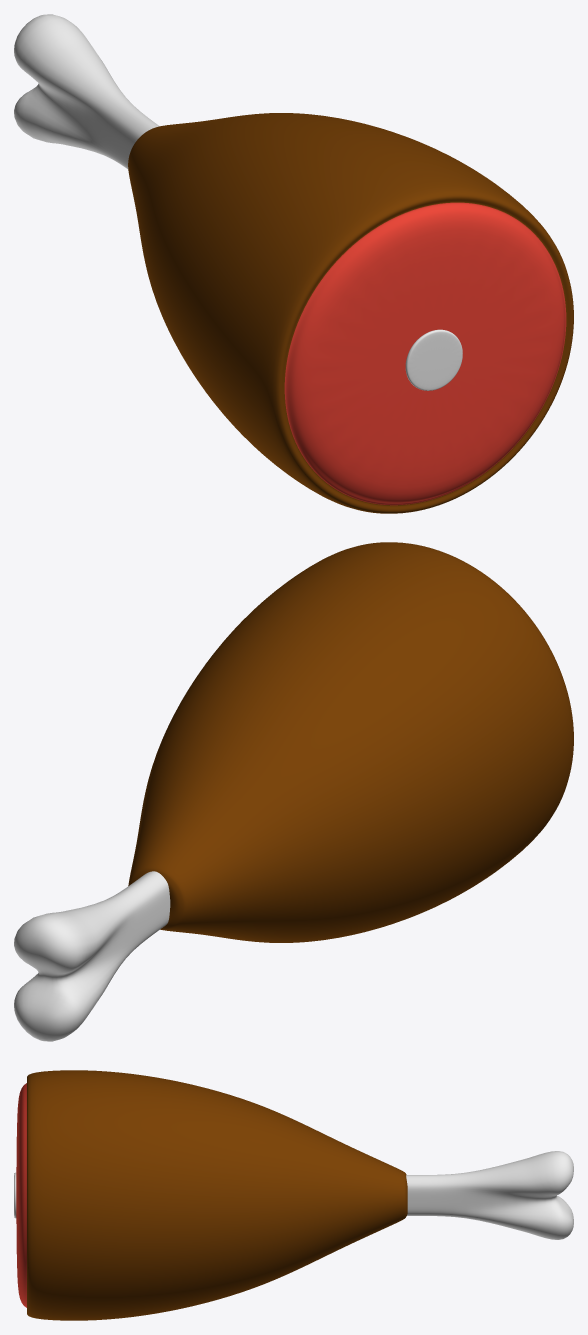
Rendered from Jamón.fbx.
3 renders of one model, top to bottom at view 1: azimuth 30°, elevation 25°; view 2: azimuth 150°, elevation 25°; view 3: azimuth 270°, elevation 25°, orthographic. The views are drawn at different scales.
Parts seen in each view (by area): view 1: Jamon; view 2: Jamon; view 3: Jamon.
Boxes of the visible parts, left/top/right/bottom form: Jamon: left=14, top=14, right=573, bottom=513; Jamon: left=14, top=542, right=573, bottom=1041; Jamon: left=14, top=1070, right=573, bottom=1320.
Size of the model in its own units: 71.05 by 71.05 by 159.
